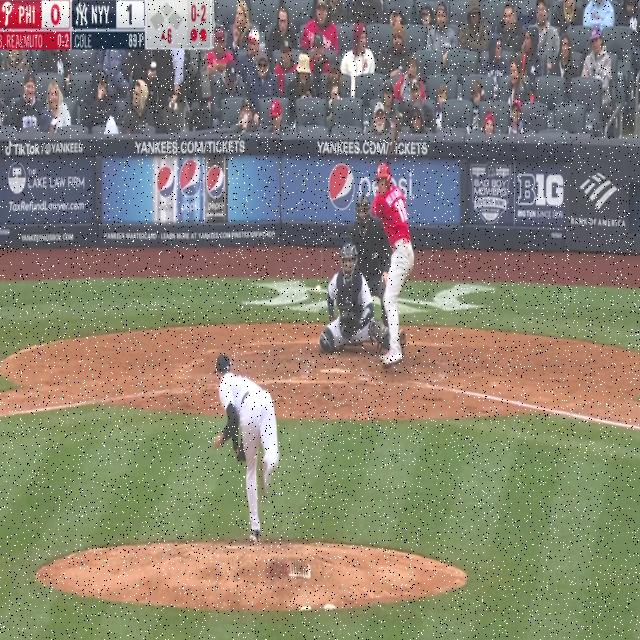baseball: (314, 284, 322, 296)
